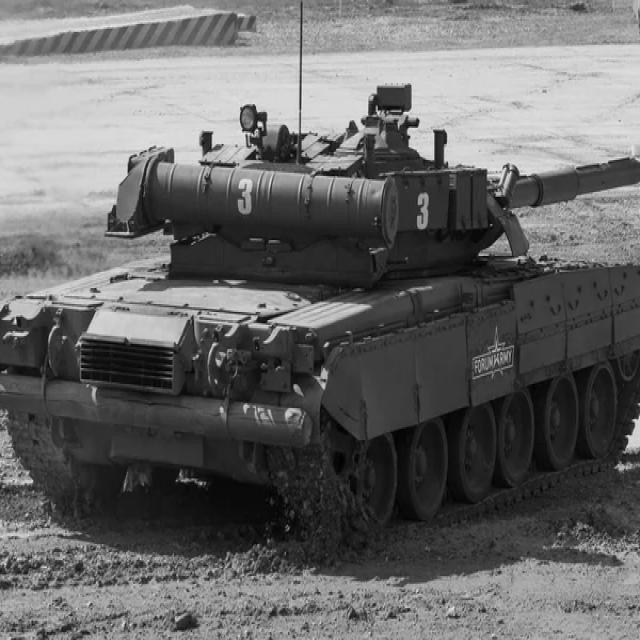Tank: (2, 82, 640, 519)
